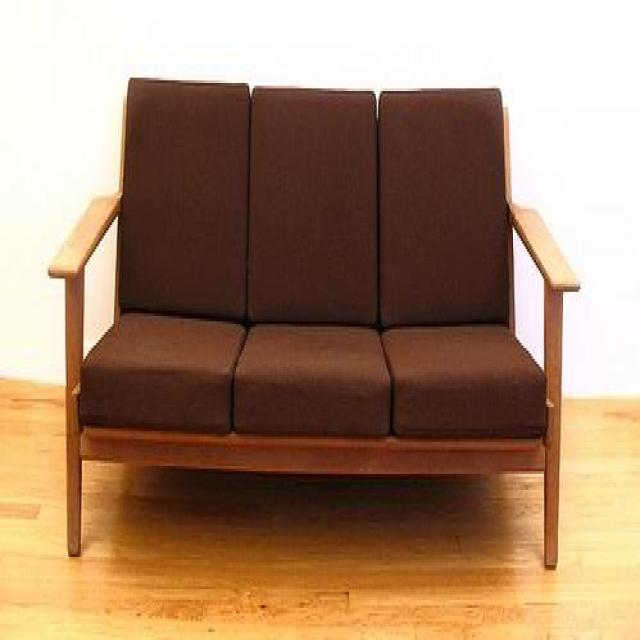sofa: (48, 71, 580, 572)
